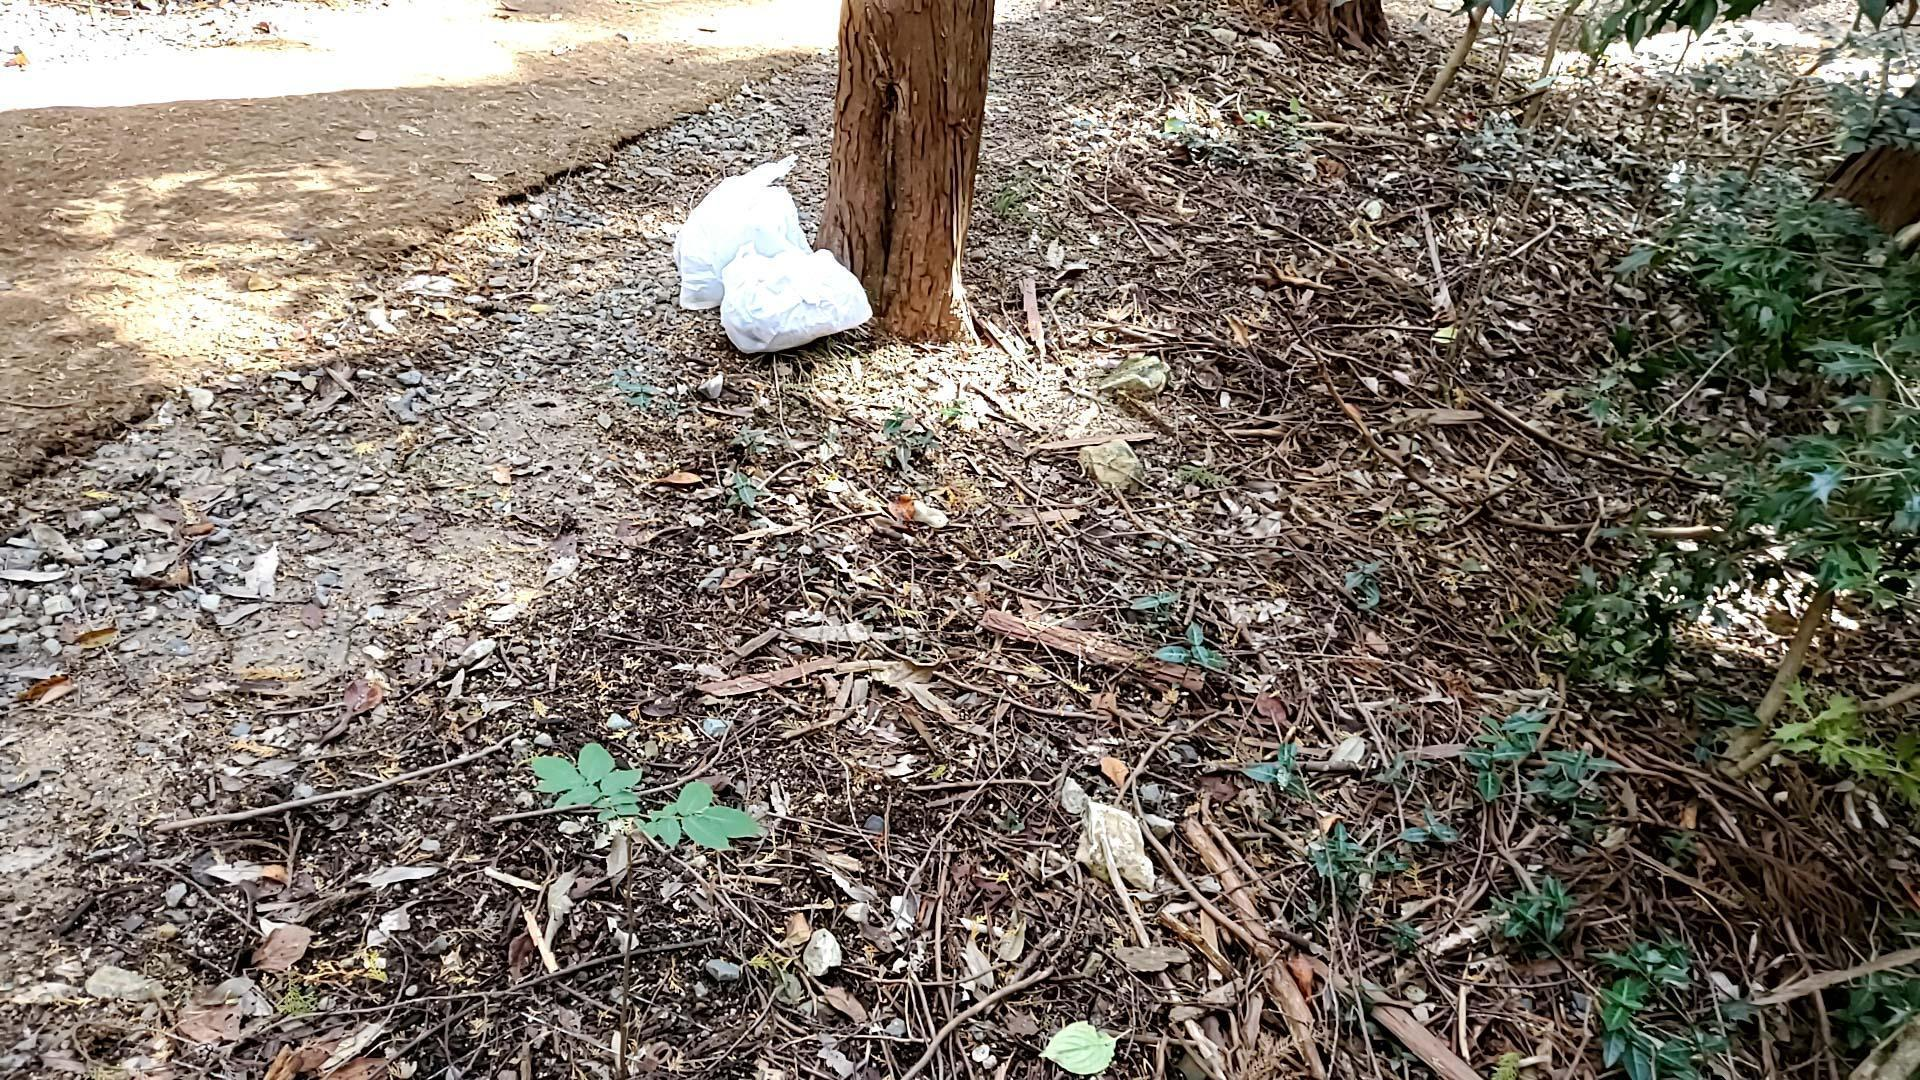white_bag: (663, 138, 825, 316), (711, 240, 881, 357)
